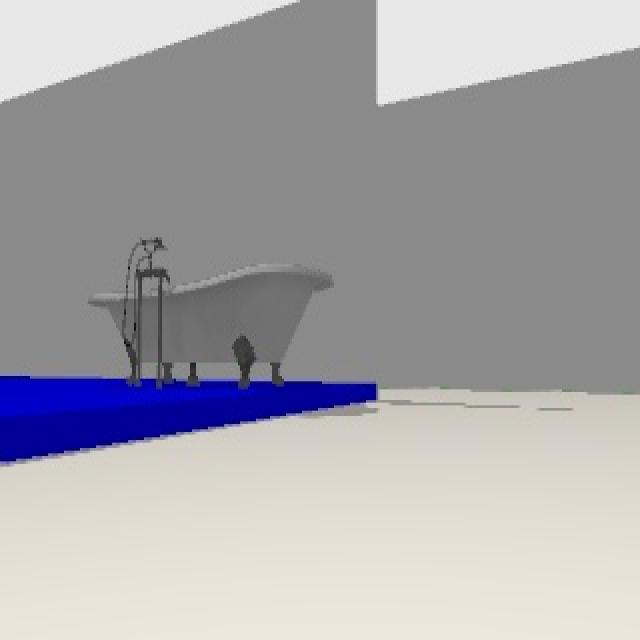bathtub: (88, 238, 334, 389)
